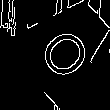O_NE: (31, 12, 96, 78)
